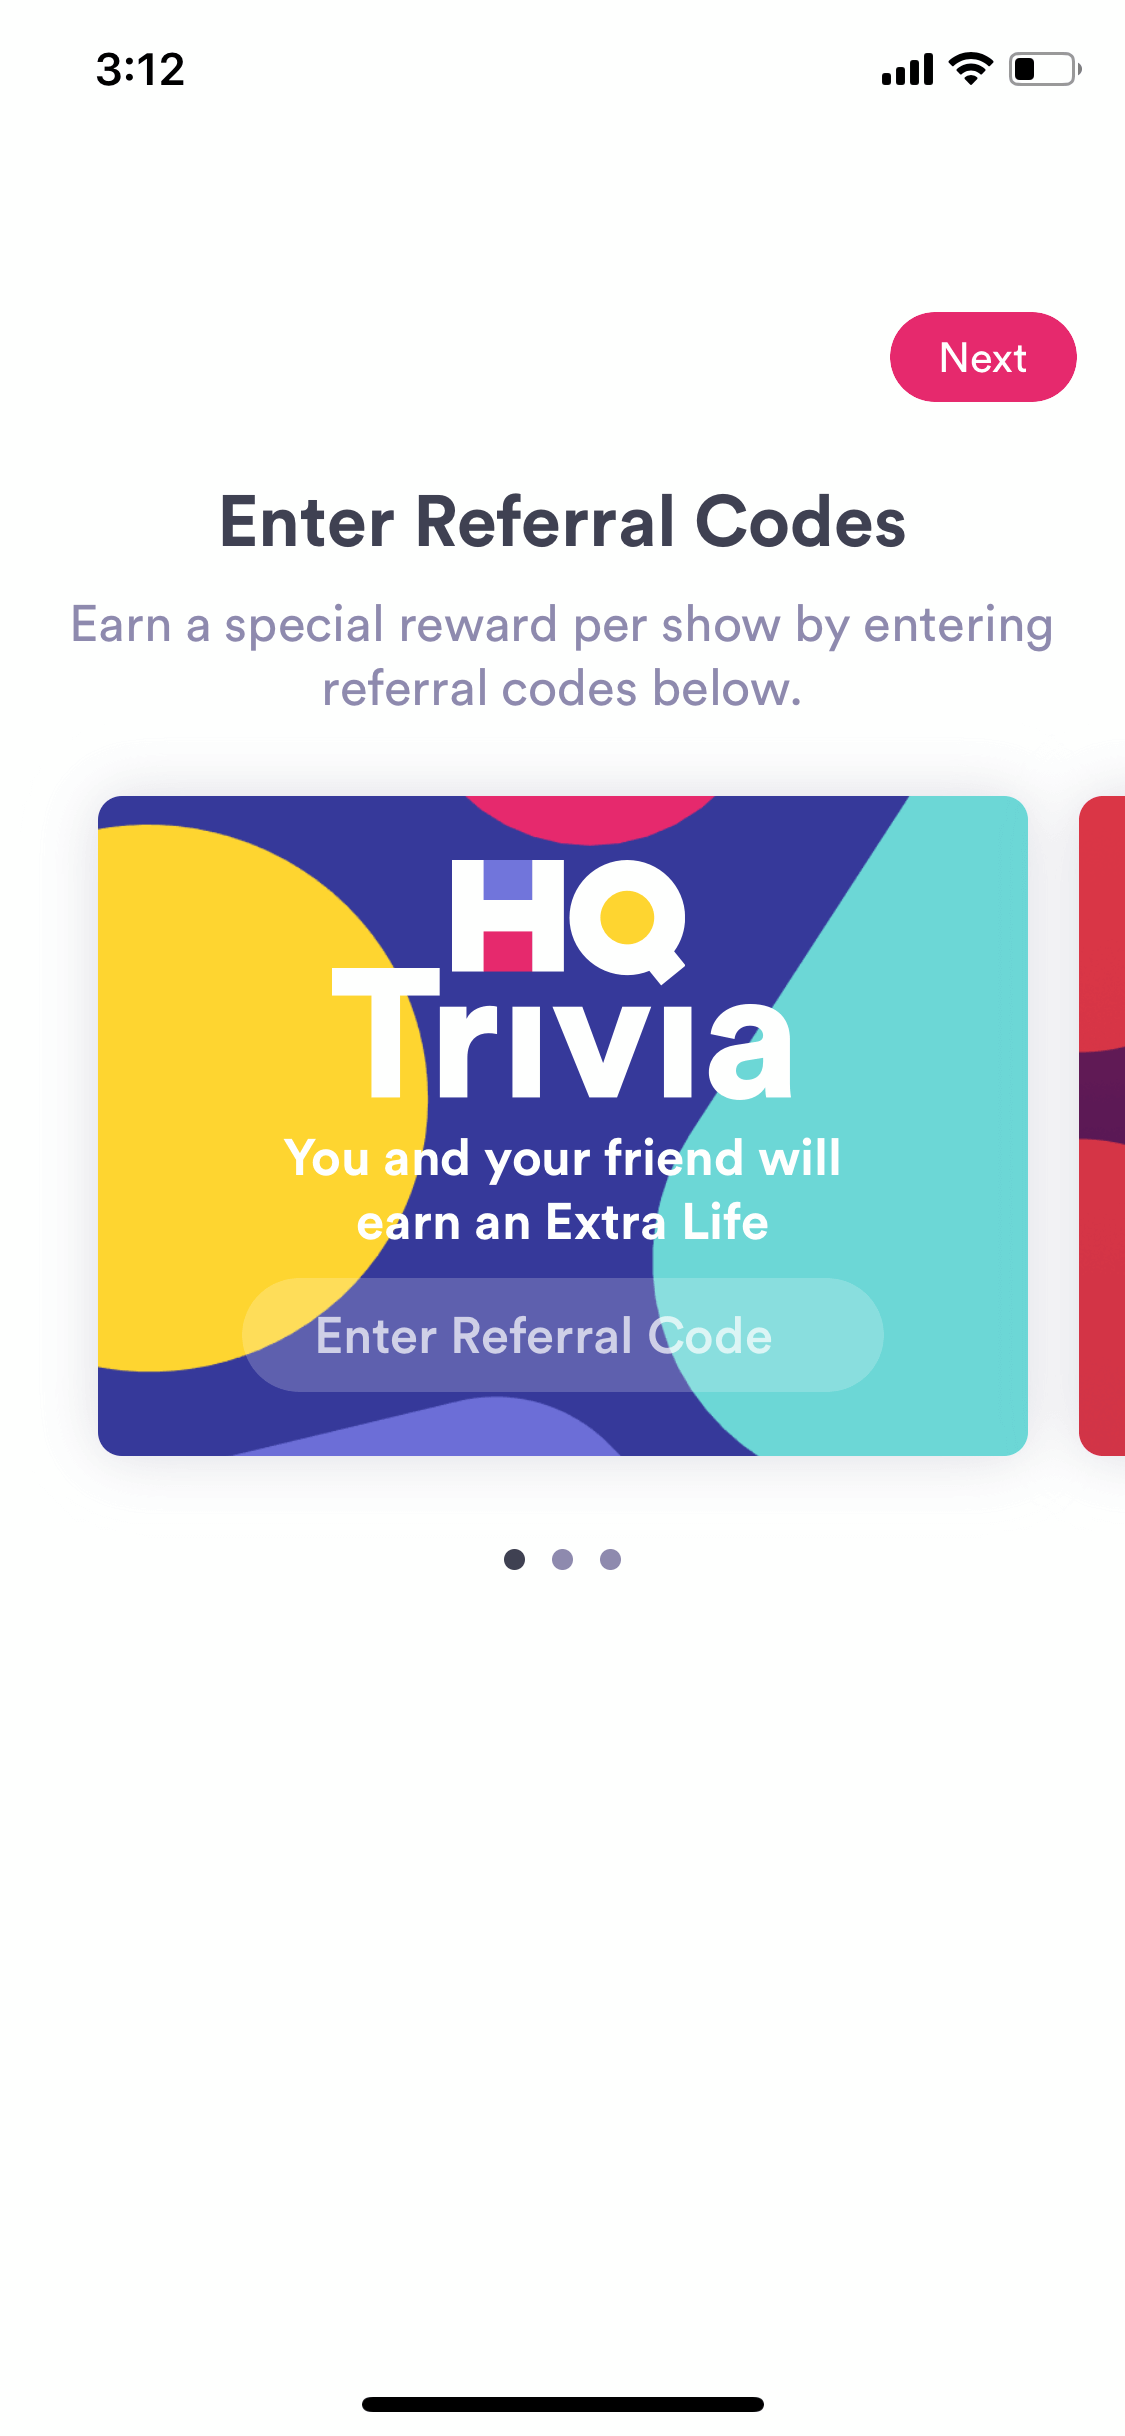Buttons: (230, 1272, 897, 1398), (873, 300, 1085, 412)
Rating: (468, 1515, 653, 1596)
